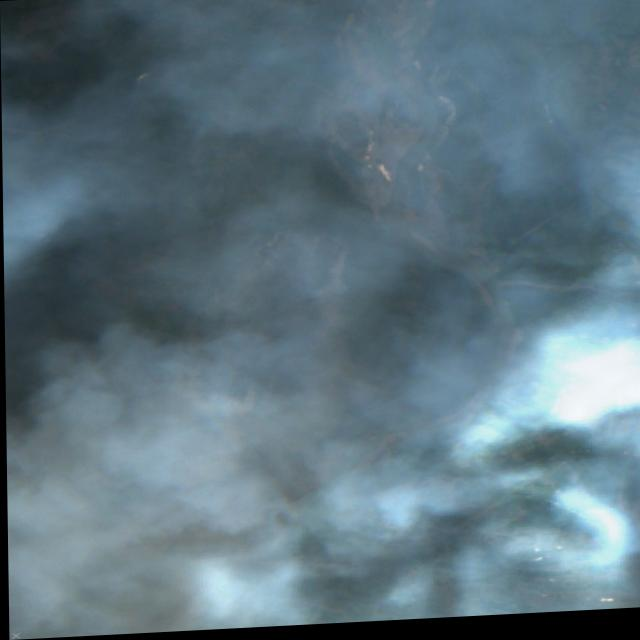fire: (150, 225, 354, 414)
